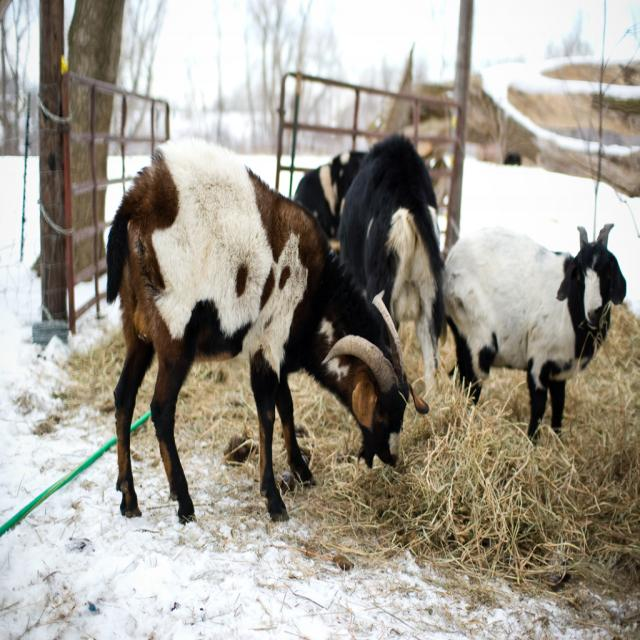Goat: (105, 130, 628, 524)
